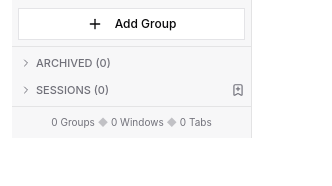
Test: SidePanel — automatic backups are not sessions › only automatic backups: the section is empty
What coordinates should you click on to do the following:
click the button "SESSIONS (0)"
I would click on:
 (118, 90)
Its box is [12,80,225,100].
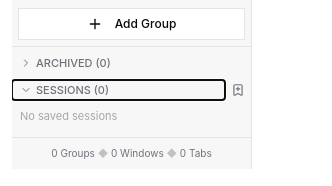
Check: the text "No saved sessions" is shown, box [20,109,117,123]
